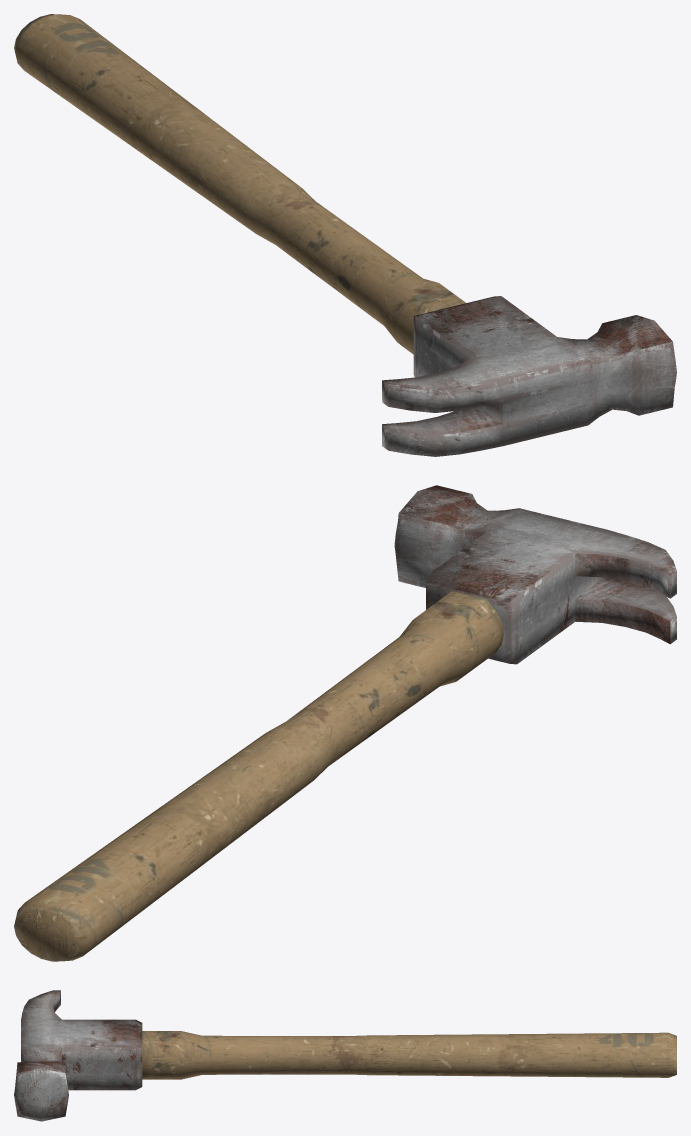
The model's file is Herr_martillo.obj.
3 views of the same model, one above another, from view 1: azimuth 30°, elevation 25°; view 2: azimuth 150°, elevation 25°; view 3: azimuth 270°, elevation 25° (orthographic). The views are drawn at different scales.
Visible parts, largest first — view 1: Herr_martillo; view 2: Herr_martillo; view 3: Herr_martillo.
Boxes of the visible parts, x1,y1,x2,y2 form: Herr_martillo: (14,14,676,456); Herr_martillo: (14,485,676,961); Herr_martillo: (14,990,676,1121).
Size of the model in its own units: 0.107 by 0.0311 by 0.3501.
1 material, 1 textured.
